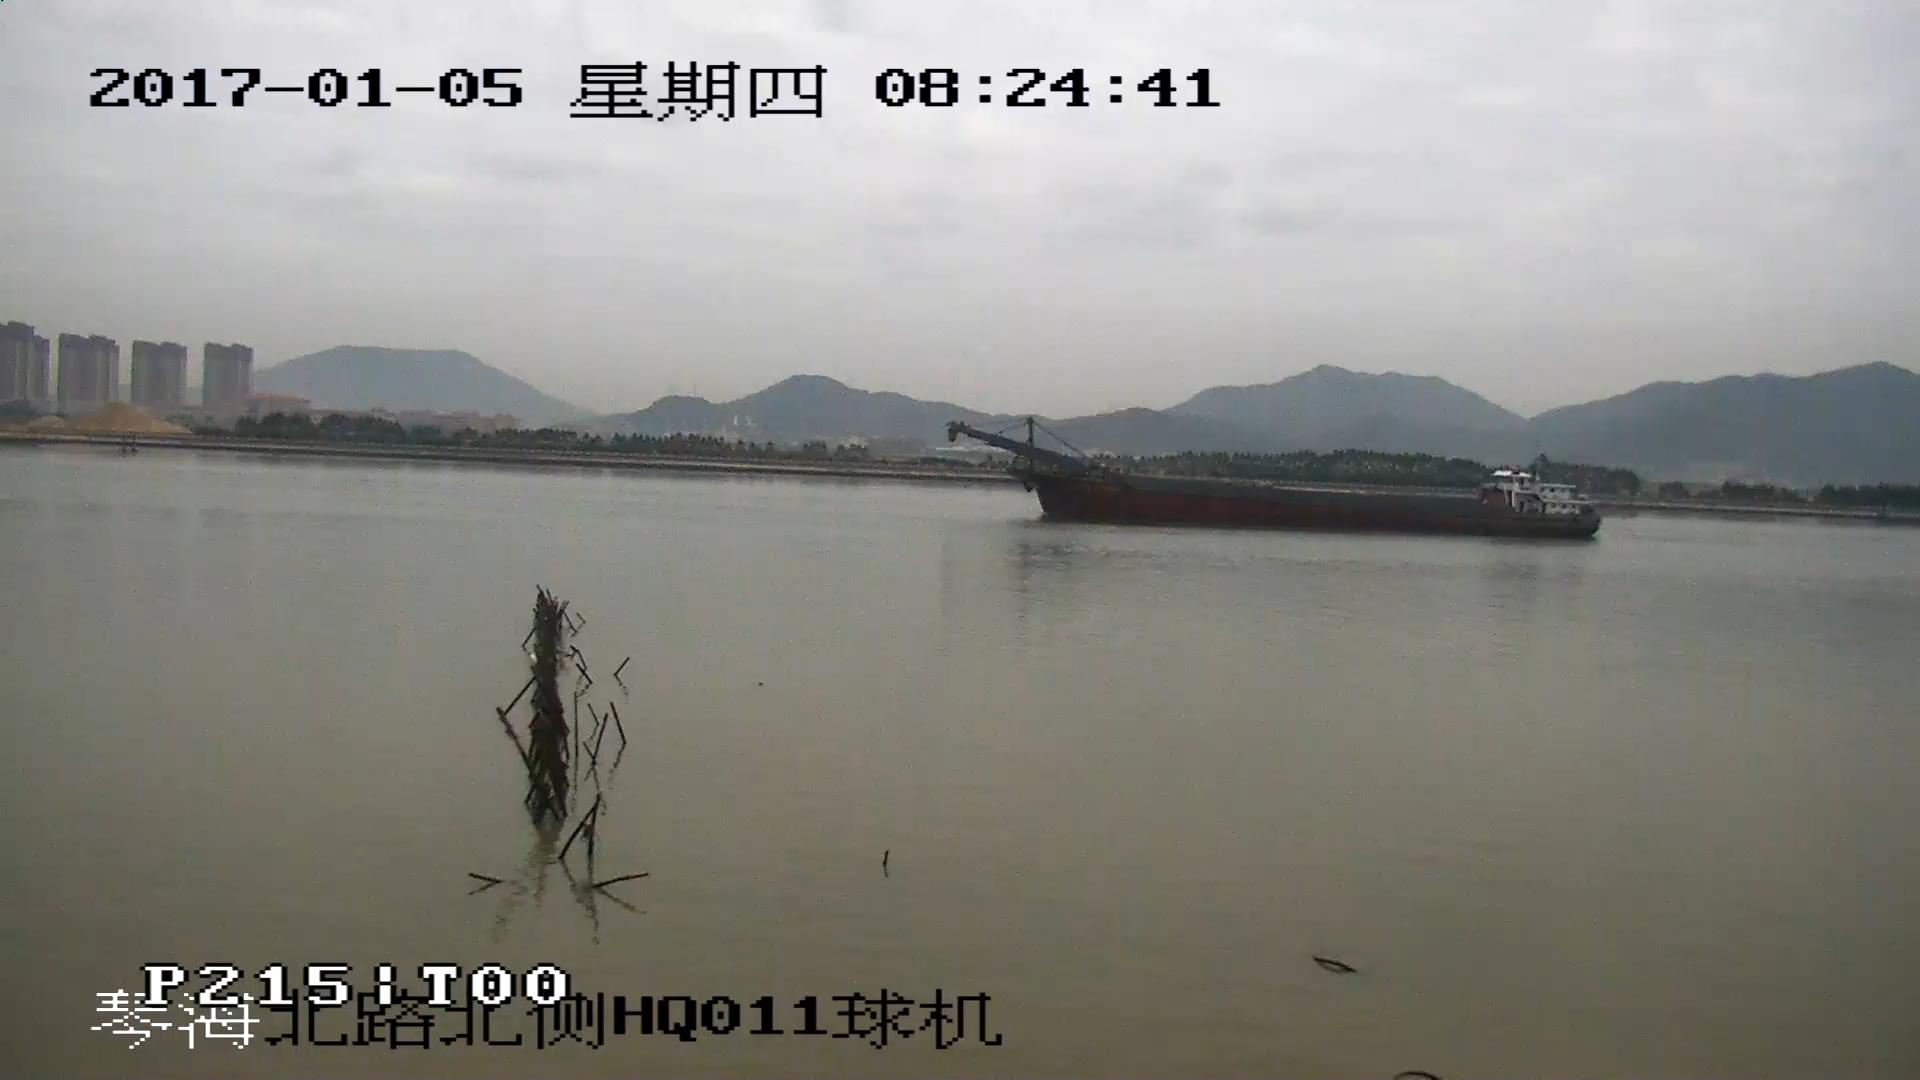bulk cargo carrier: (945, 420, 1600, 539)
